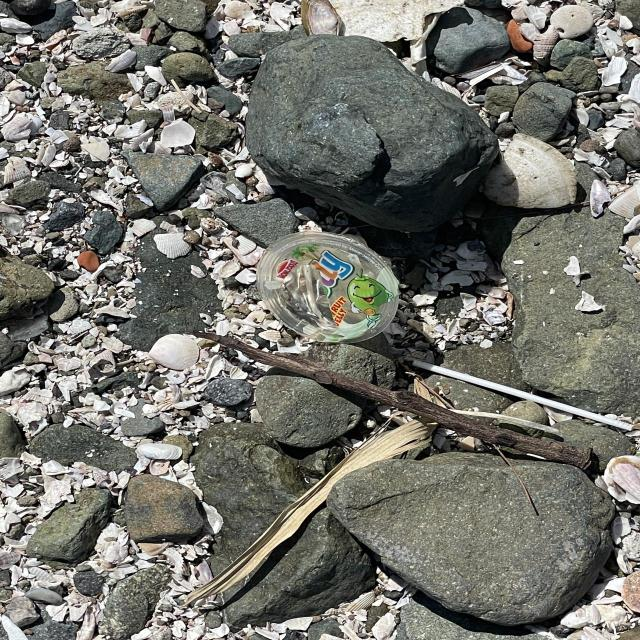plastic_waste: (260, 232, 400, 351), (415, 359, 637, 432)
